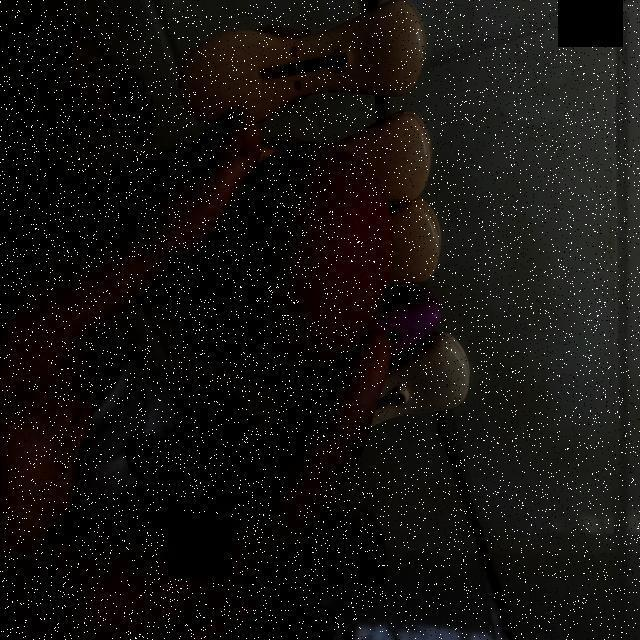egg: (194, 136, 394, 392)
